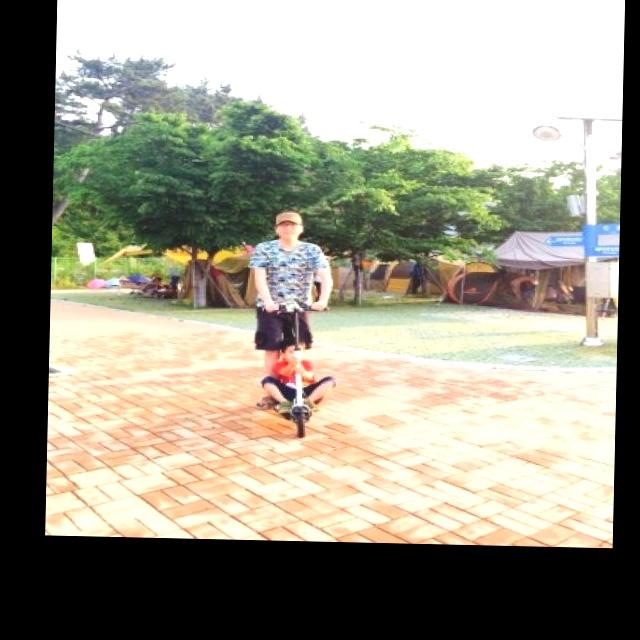bare_head: (266, 210, 305, 246), (280, 341, 308, 363)
human: (248, 211, 328, 385), (268, 342, 331, 407)
kickboard: (257, 371, 314, 429)
